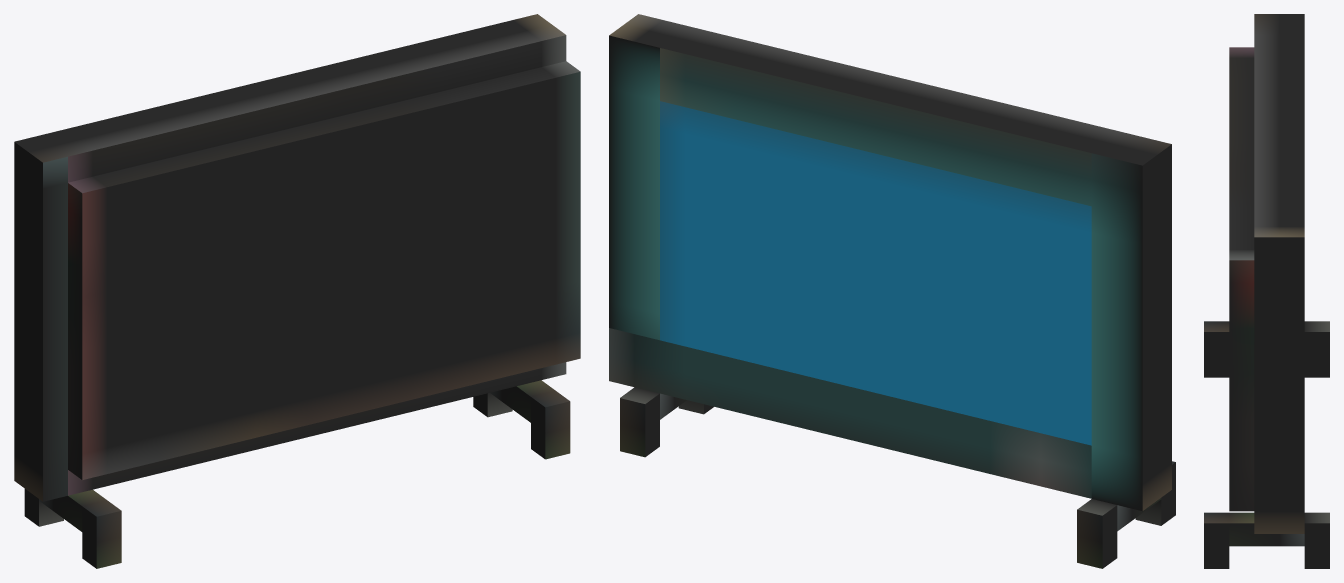
File: TVWithStand_01.fbx
3 renders of one model, left to right at view 1: azimuth 30°, elevation 25°; view 2: azimuth 150°, elevation 25°; view 3: azimuth 270°, elevation 25°, orthographic. The views are drawn at different scales.
Parts seen in each view (by area): view 1: TVWithStand_01; view 2: TVWithStand_01; view 3: TVWithStand_01.
Boxes of the visible parts, box(x1,y1,x2,y2) form: TVWithStand_01: box(14, 14, 580, 568); TVWithStand_01: box(609, 14, 1175, 568); TVWithStand_01: box(1204, 14, 1329, 568).
Bounding box in the file's own units: 105 × 25 × 75.
2 materials, 2 textured.
